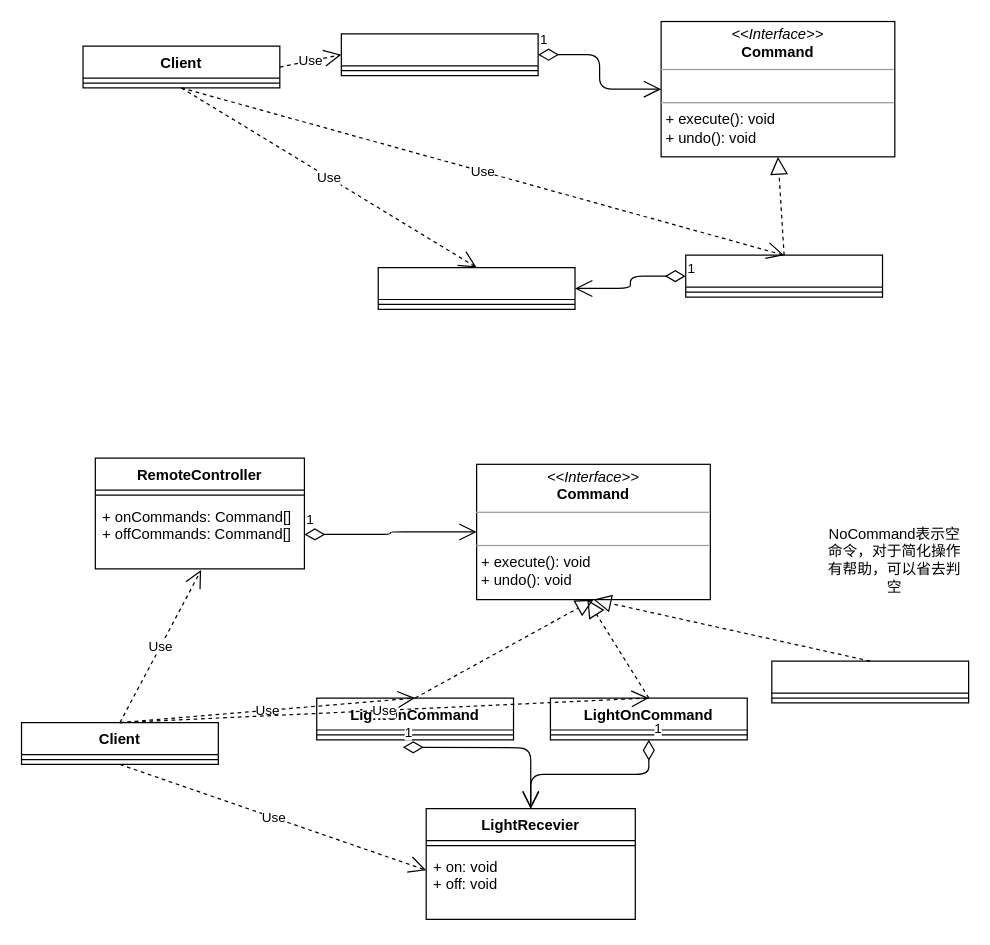
This 990x945 diagram has some shape labels left out. The shapes that lost their labels are listed below. From the top down, each one's centre as x and y in pixels, then its label:
At point (439, 54): "Invoker".
At point (476, 287): "Receiver".
At point (783, 275): "ConcreteCommand".
At point (870, 681): "NoCommand".
